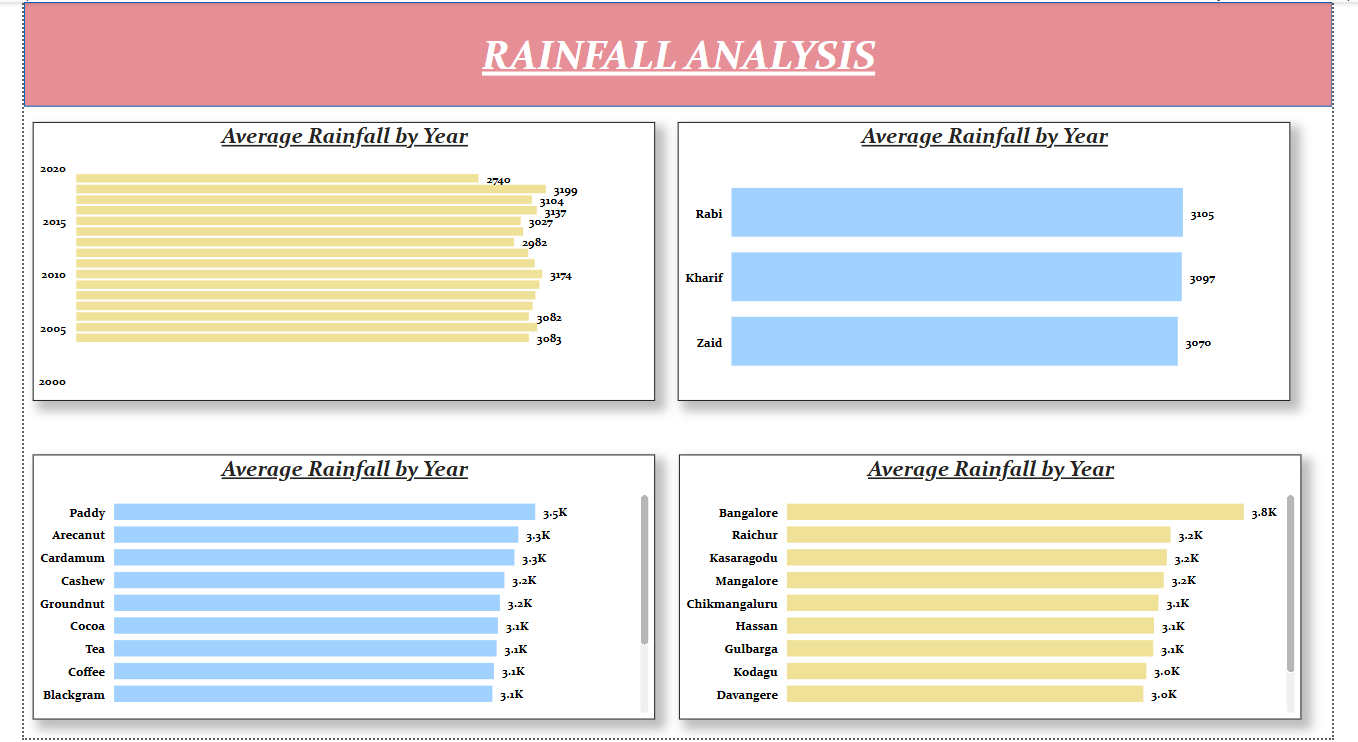

This screenshot's page, from the dashboard's own definition file:
{"tool":"powerbi","page":{"name":"Rainfall Analysis","canvas":[1280,720],"ordinal":0},"visuals":[{"type":"shape","box":[0,0,1280.3,102.7],"z":0},{"type":"barChart","title":"Average Rainfall by Year","fields":{"Category":["AGRICULTURE.YEAR"],"Y":["Avg(AGRICULTURE.RAINFALL)"]},"box":[8.6,117.4,609,272.7],"z":1000},{"type":"barChart","title":"Average Rainfall by Year","fields":{"Y":["Avg(AGRICULTURE.RAINFALL)"],"Category":["AGRICULTURE.SEASON"]},"box":[639.5,117.4,599.2,272.7],"z":2000},{"type":"barChart","title":"Average Rainfall by Year","fields":{"Y":["Avg(AGRICULTURE.RAINFALL)"],"Category":["AGRICULTURE.CROPS"]},"box":[8.6,442.7,609,259.2],"z":3000},{"type":"barChart","title":"Average Rainfall by Year","fields":{"Y":["Avg(AGRICULTURE.RAINFALL)"],"Category":["AGRICULTURE.LOCATION"]},"box":[640.8,442.7,609,259.2],"z":4000}]}

Visuals, with their boxes in screenshot pixels (x1, y1, x2, y2), scaled from the page's 1280x720 canvas onto the 1358x742 screenshot:
shape: (0,0,1357,106)
"Average Rainfall by Year" barChart: (9,121,655,402)
"Average Rainfall by Year" barChart: (678,121,1314,402)
"Average Rainfall by Year" barChart: (9,456,655,723)
"Average Rainfall by Year" barChart: (680,456,1326,723)
